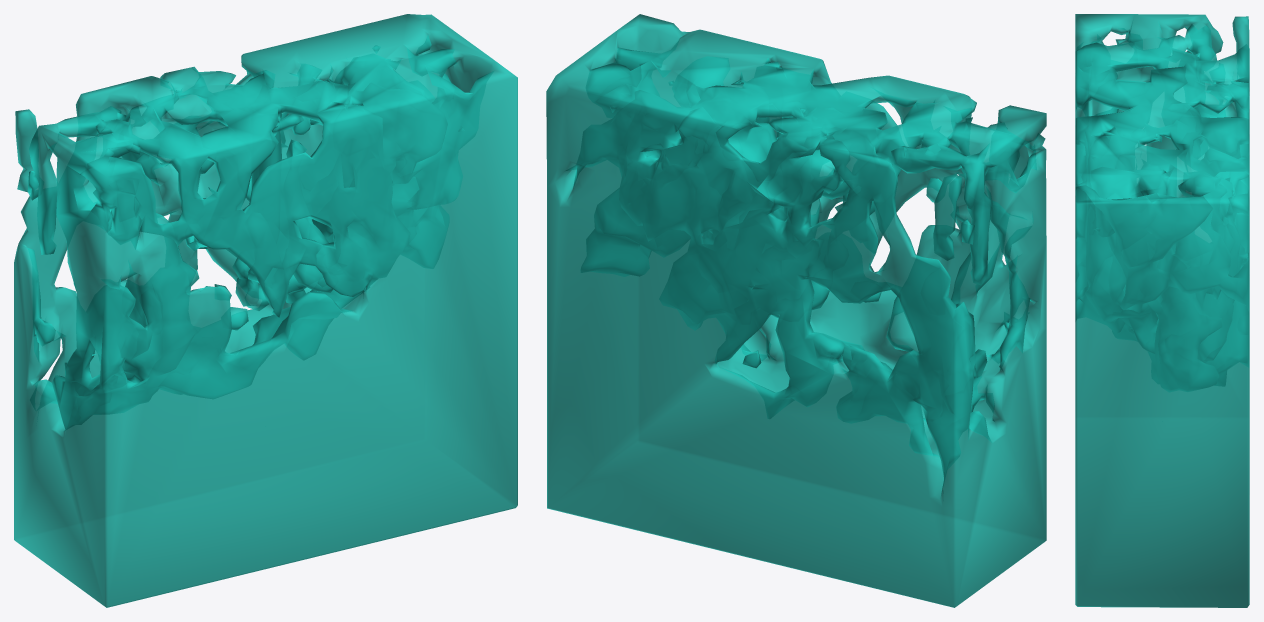
The picture shows the model from 3 angles, left to right: view 1: azimuth 30°, elevation 25°; view 2: azimuth 150°, elevation 25°; view 3: azimuth 270°, elevation 25°; orthographic projection. The views are drawn at different scales.
Parts seen in each view (by area): view 1: Liquid_Domain; view 2: Liquid_Domain; view 3: Liquid_Domain.
Boxes of the visible parts, x1,y1,x2,y2 form: Liquid_Domain: [14, 14, 517, 607]; Liquid_Domain: [546, 14, 1046, 607]; Liquid_Domain: [1075, 14, 1249, 607].
Bounding box in the file's own units: 1965 × 1966 × 766.
